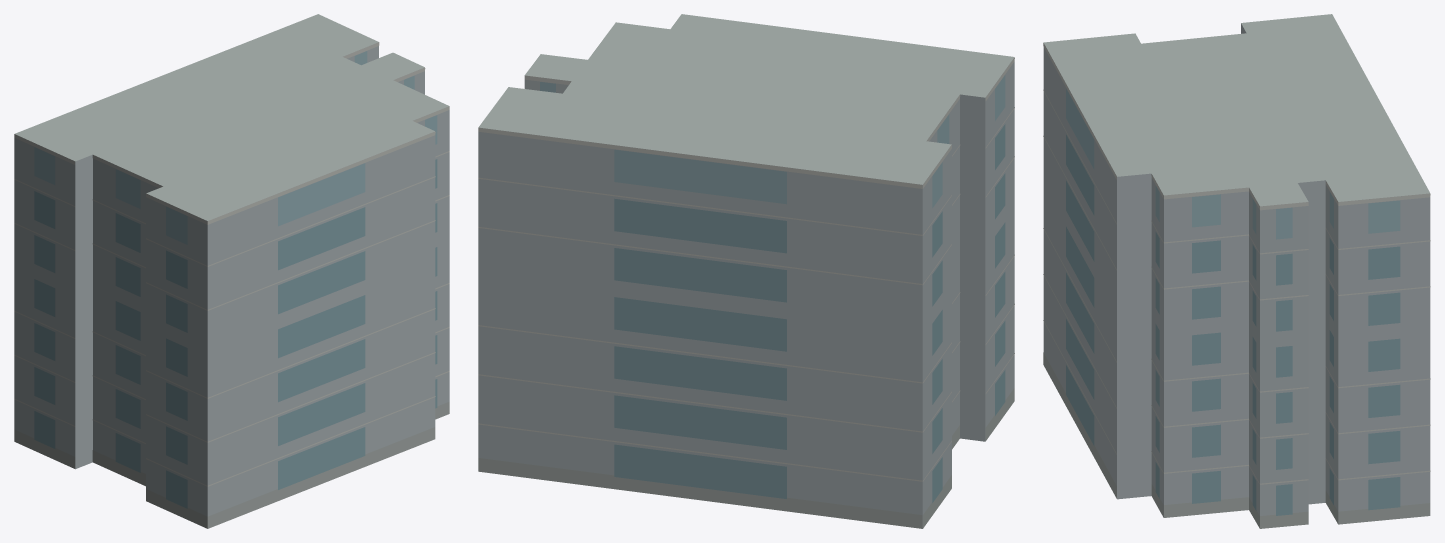
Rendered from survey-upis-32770058.glb.
The picture shows the model from 3 angles, left to right: view 1: azimuth 30°, elevation 25°; view 2: azimuth 150°, elevation 25°; view 3: azimuth 270°, elevation 25°; orthographic projection. The views are drawn at different scales.
Visible parts, largest first — view 1: survey-upis-32770058.tmp; view 2: survey-upis-32770058.tmp; view 3: survey-upis-32770058.tmp.
Part boxes in pixels (bbox=[...]): survey-upis-32770058.tmp: bbox=[14, 14, 449, 528]; survey-upis-32770058.tmp: bbox=[478, 14, 1014, 528]; survey-upis-32770058.tmp: bbox=[1043, 14, 1430, 528].
Size of the model in its own units: 25.55 by 19.95 by 21.72.
